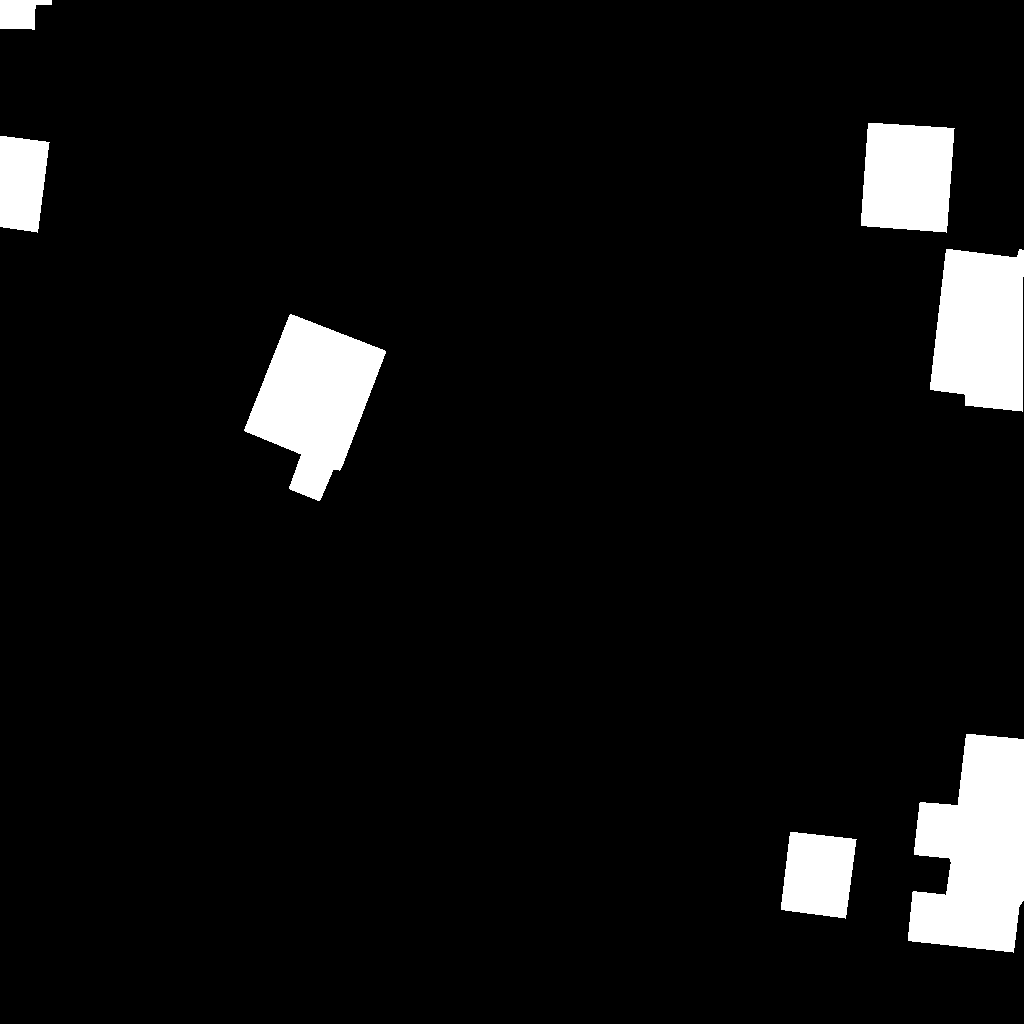building: (244, 314, 387, 502), (908, 734, 1024, 953), (930, 249, 1024, 412), (861, 123, 955, 233), (781, 832, 857, 919), (0, 136, 50, 233), (0, 0, 53, 30)
